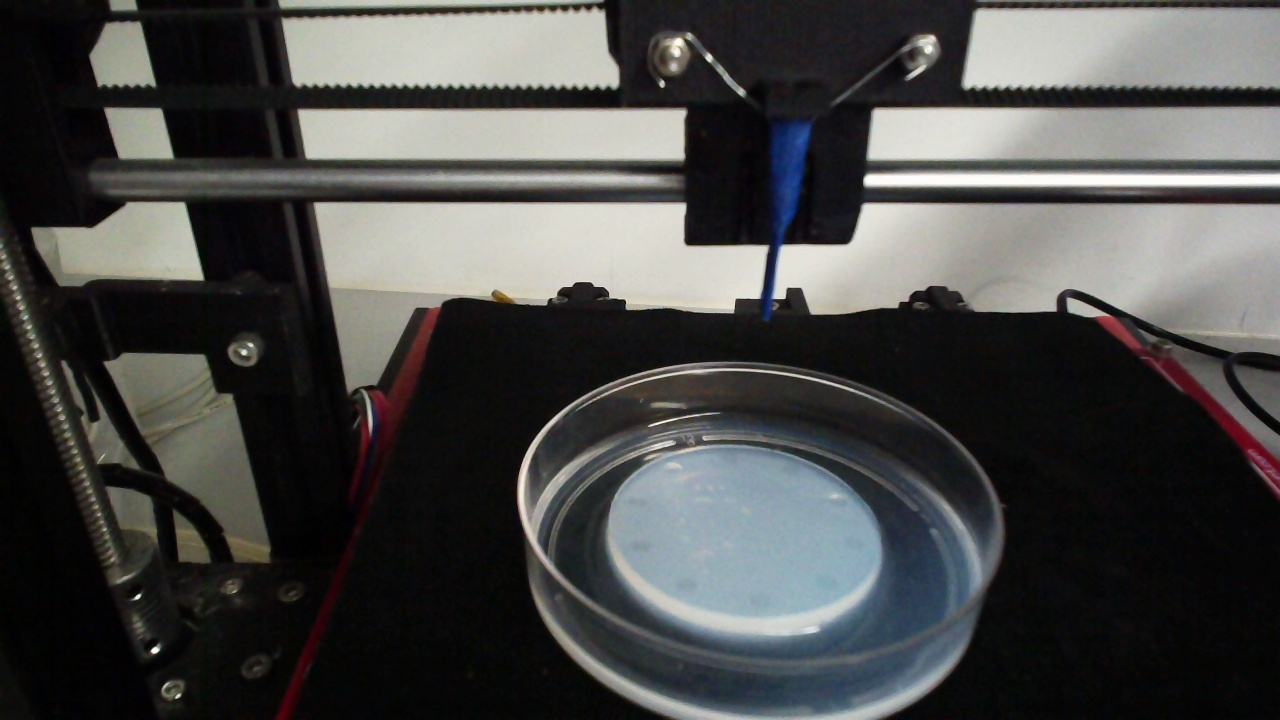groove: (746, 591, 773, 613), (672, 576, 701, 593), (842, 534, 866, 554), (627, 494, 652, 511), (628, 537, 654, 552), (815, 576, 837, 593), (664, 461, 684, 478), (780, 462, 801, 478), (720, 450, 739, 466), (828, 494, 847, 507)
needle: (762, 120, 811, 320)
